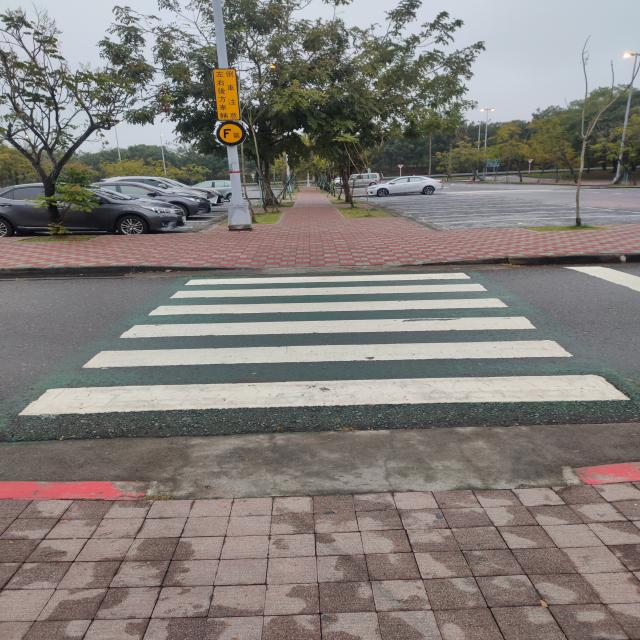zebra_crossing: (173, 76, 202, 489)
